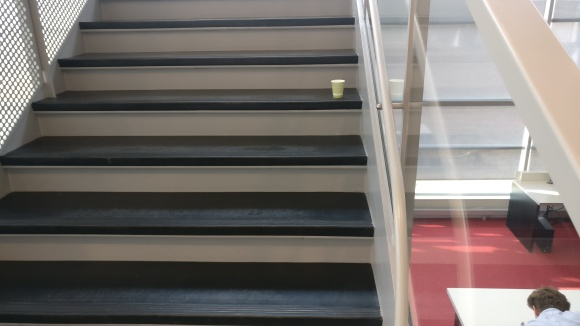cup: (329, 77, 346, 99)
